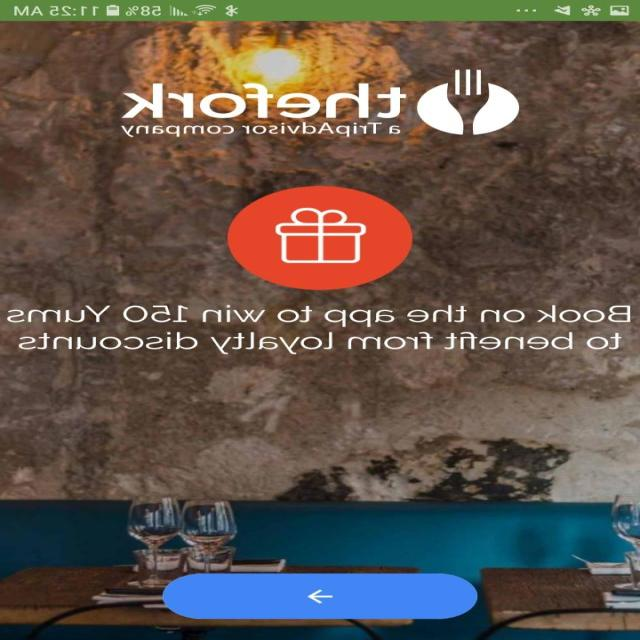BackgroundImage: (1, 21, 640, 639)
Icon: (228, 186, 414, 290)
Image: (121, 83, 406, 137), (417, 70, 519, 134)
Text: (7, 305, 630, 354)
TextButton: (162, 573, 478, 619)
